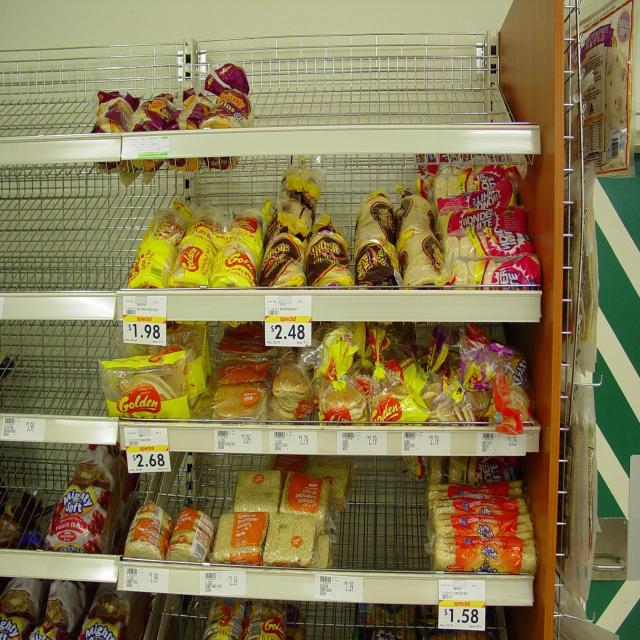empty_space: (255, 23, 513, 115), (6, 179, 126, 278), (9, 324, 102, 401), (2, 45, 87, 122), (353, 473, 421, 558), (7, 448, 45, 543), (302, 611, 418, 640), (153, 476, 232, 502), (158, 599, 198, 637)
